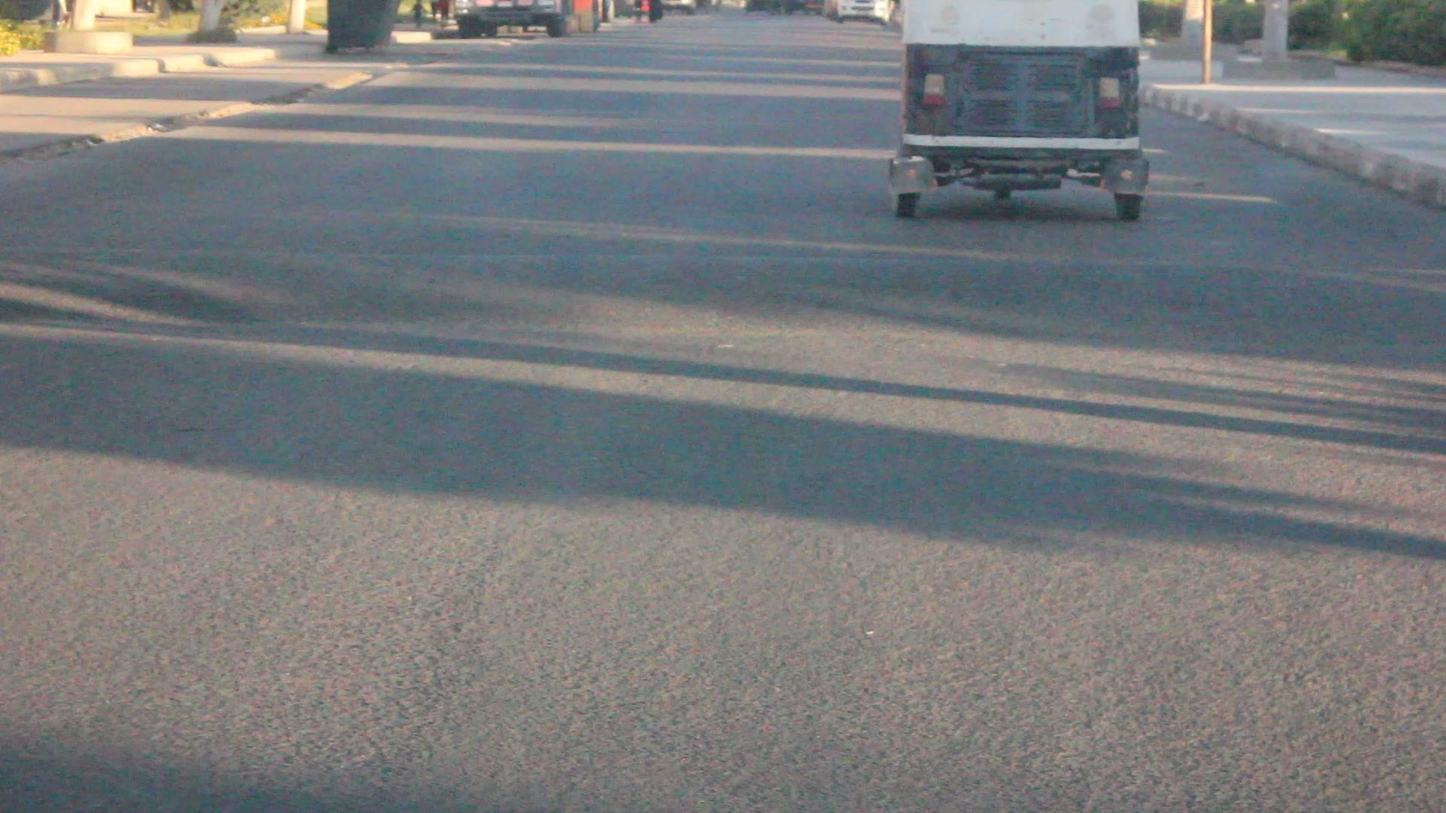Bump: (0, 243, 1445, 357)
